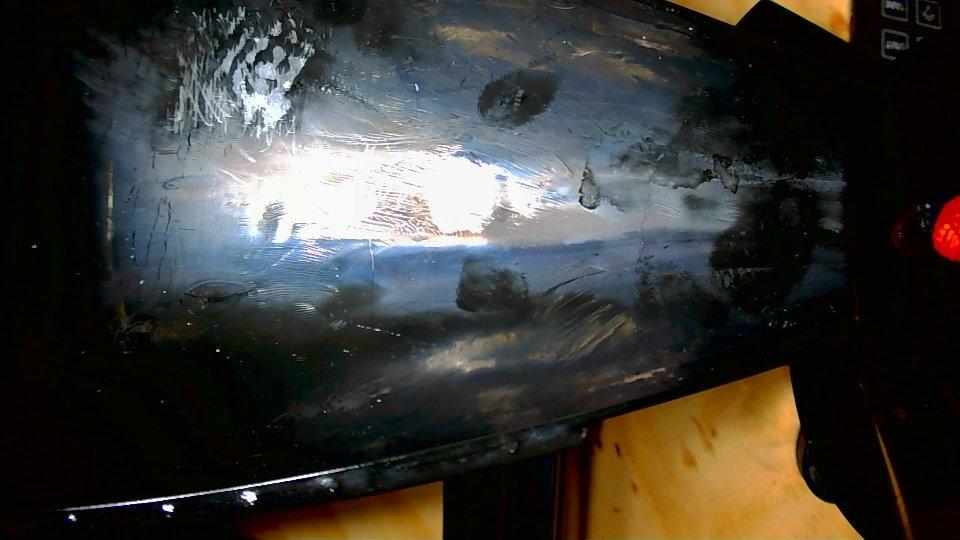berry: (932, 196, 959, 261)
